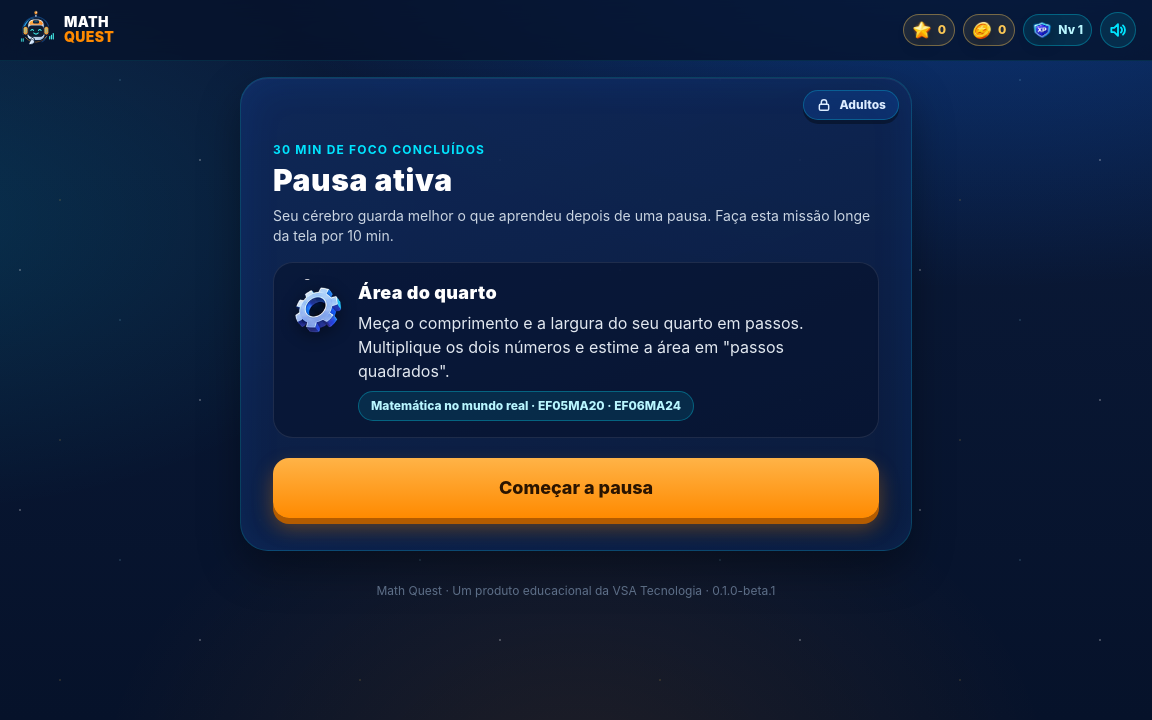
healthy pause (Padrão VSA de Bem-Estar) › 11–13: shows the "Pausa ativa" card and starts the break
Check: the heading "Pausa ativa" is shown, box [273,162,453,198]
Check: the text "Matemática no mundo real · EF05MA20 · EF06MA24" is shown, box [358,391,694,421]
Click the button "Começar a pausa": (576, 488) [273,458,879,518]
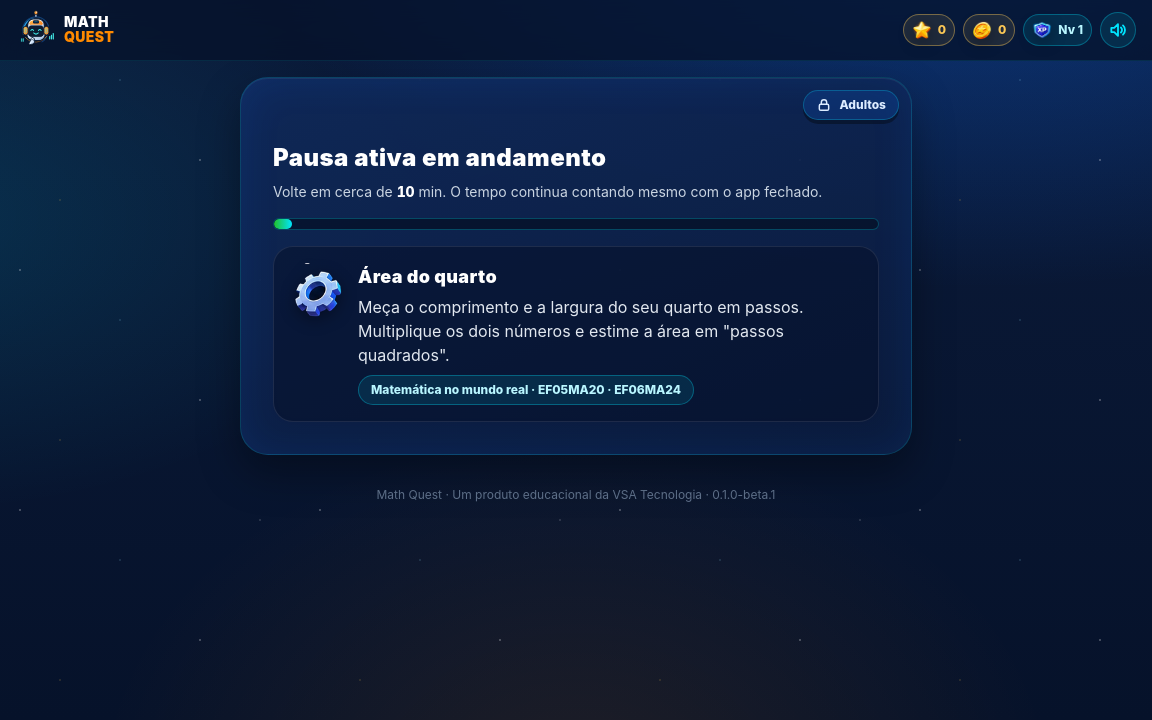
Check: the heading "Pausa ativa em andamento" is shown, box [273,143,607,172]
Check: the progress indicator named "Progresso da pausa" is shown, box [273,218,879,230]
